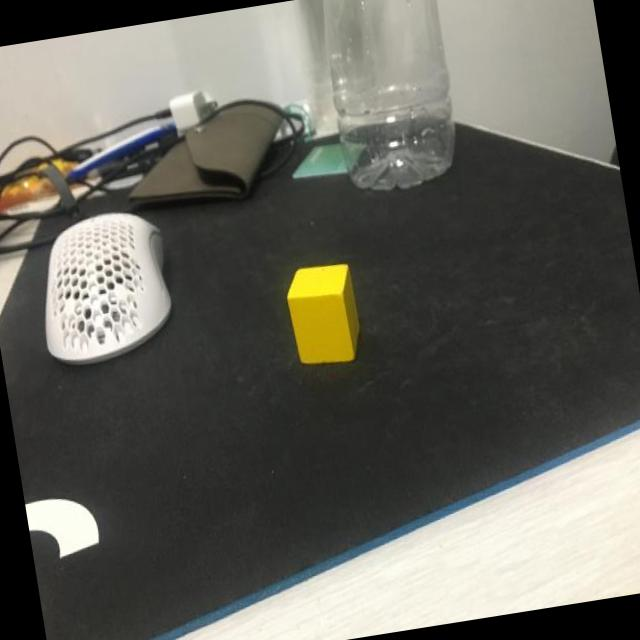yellow: (282, 258, 368, 372)
